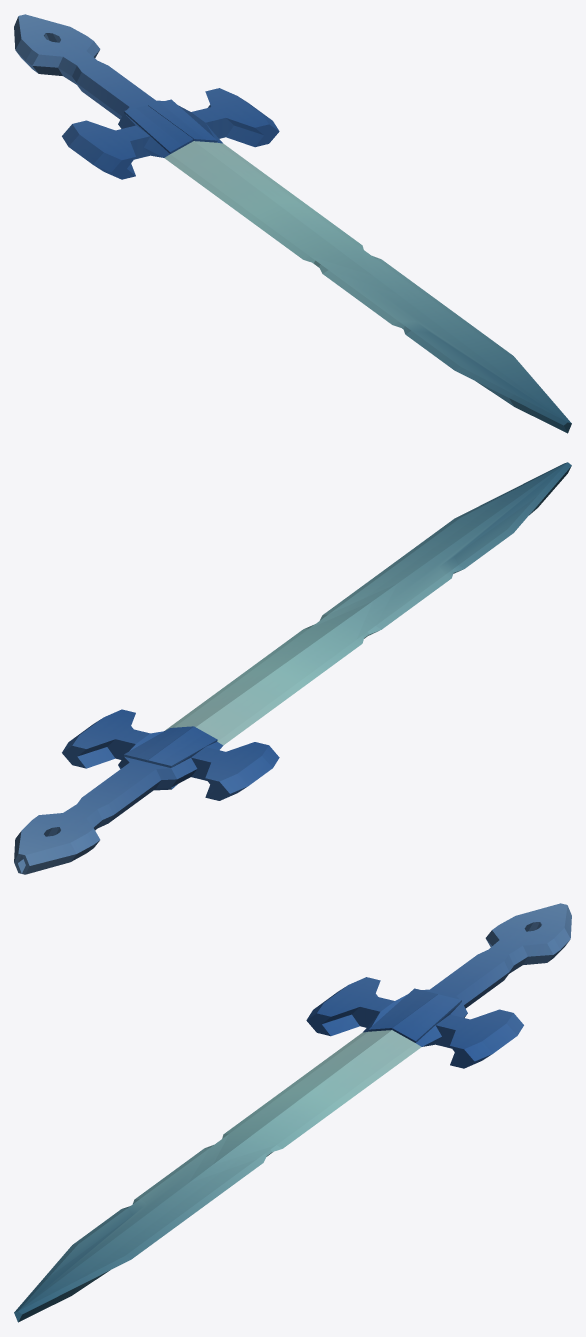
Rendered from SWORD.fbx.
3 views of the same model, one above another, from view 1: azimuth 30°, elevation 25°; view 2: azimuth 150°, elevation 25°; view 3: azimuth 330°, elevation 25° (orthographic).
Parts seen in each view (by area): view 1: Plane; view 2: Plane; view 3: Plane.
Boxes of the visible parts, x1,y1,x2,y2 form: Plane: (14, 14, 571, 433); Plane: (14, 462, 571, 874); Plane: (14, 903, 571, 1322).
Bounding box in the file's own units: 48.5 × 7.8 × 255.
1 material, 1 textured.
